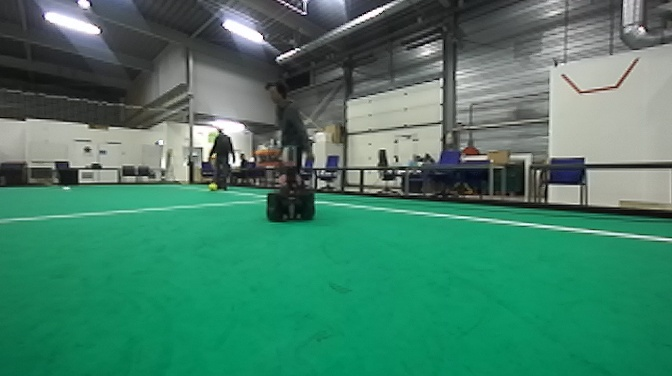ball: (207, 180, 217, 193)
human: (261, 79, 319, 184)
robot: (262, 139, 319, 228)
